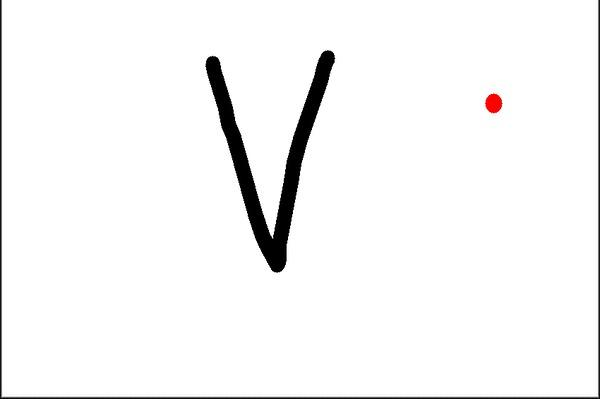V: (198, 42, 347, 279)
